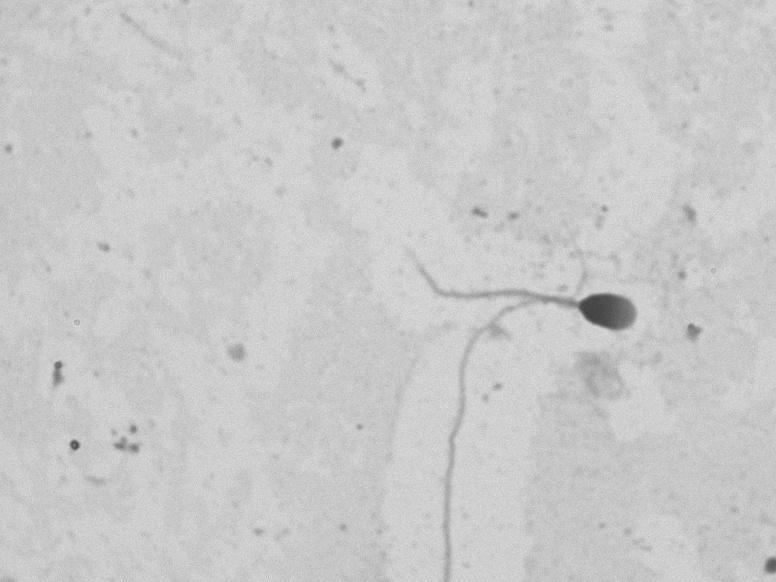Abnormal: (430, 244, 665, 351)
